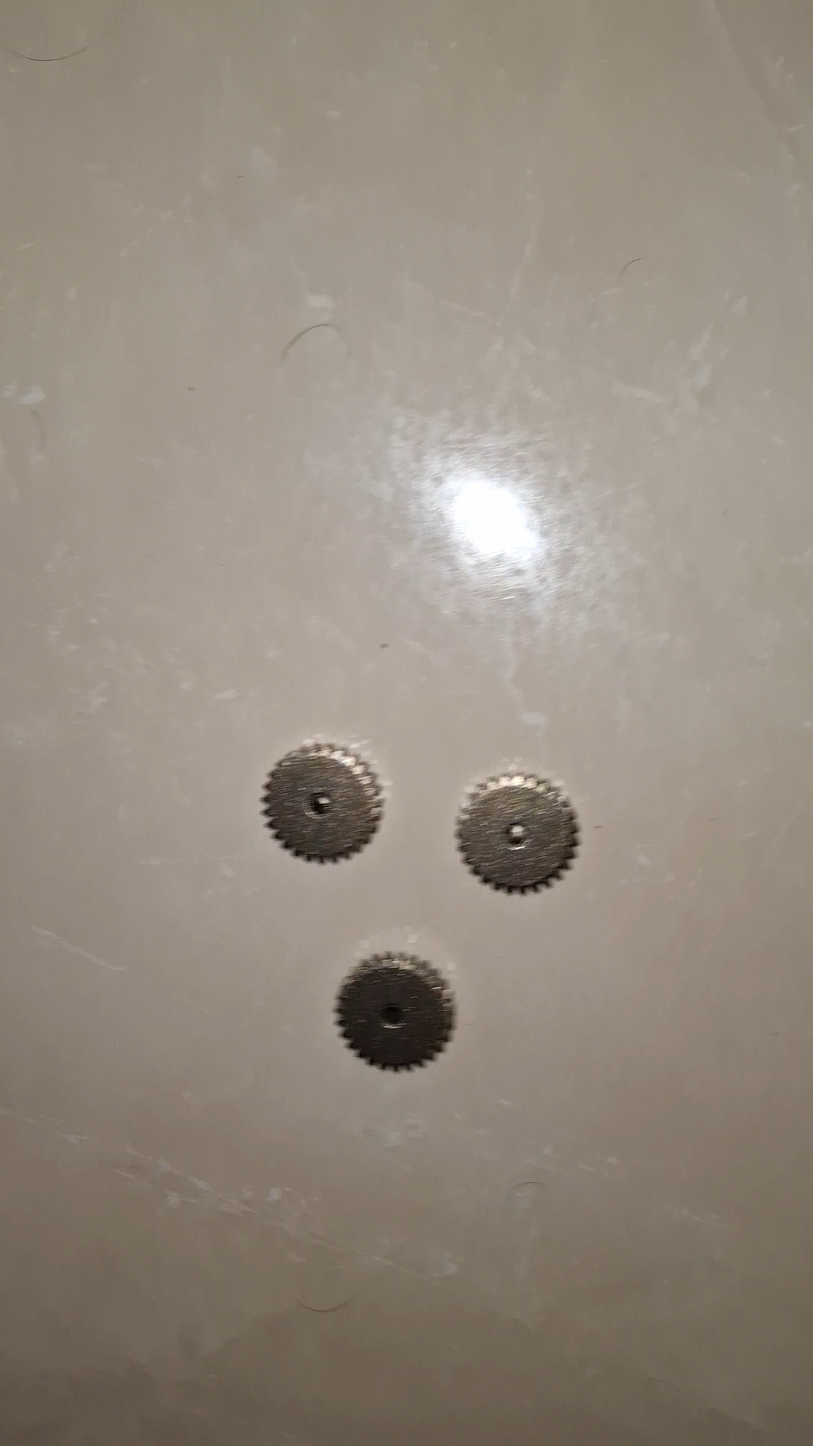spur gear: (457, 773, 579, 892), (262, 743, 382, 861), (336, 953, 454, 1070)
